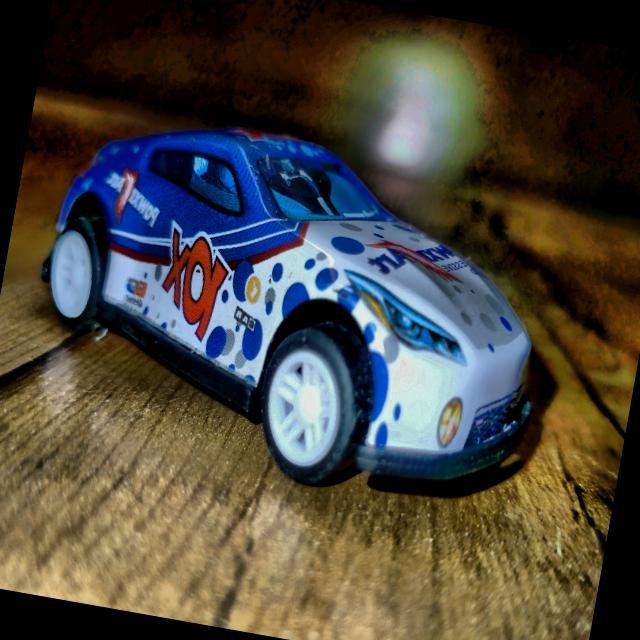Car: (14, 100, 569, 520)
